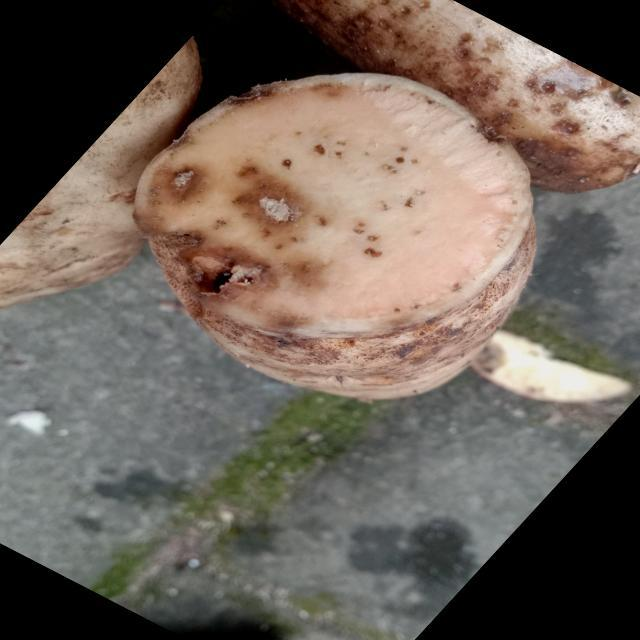Sick Sweet Potato_Tuber Rot: (135, 74, 532, 338)
